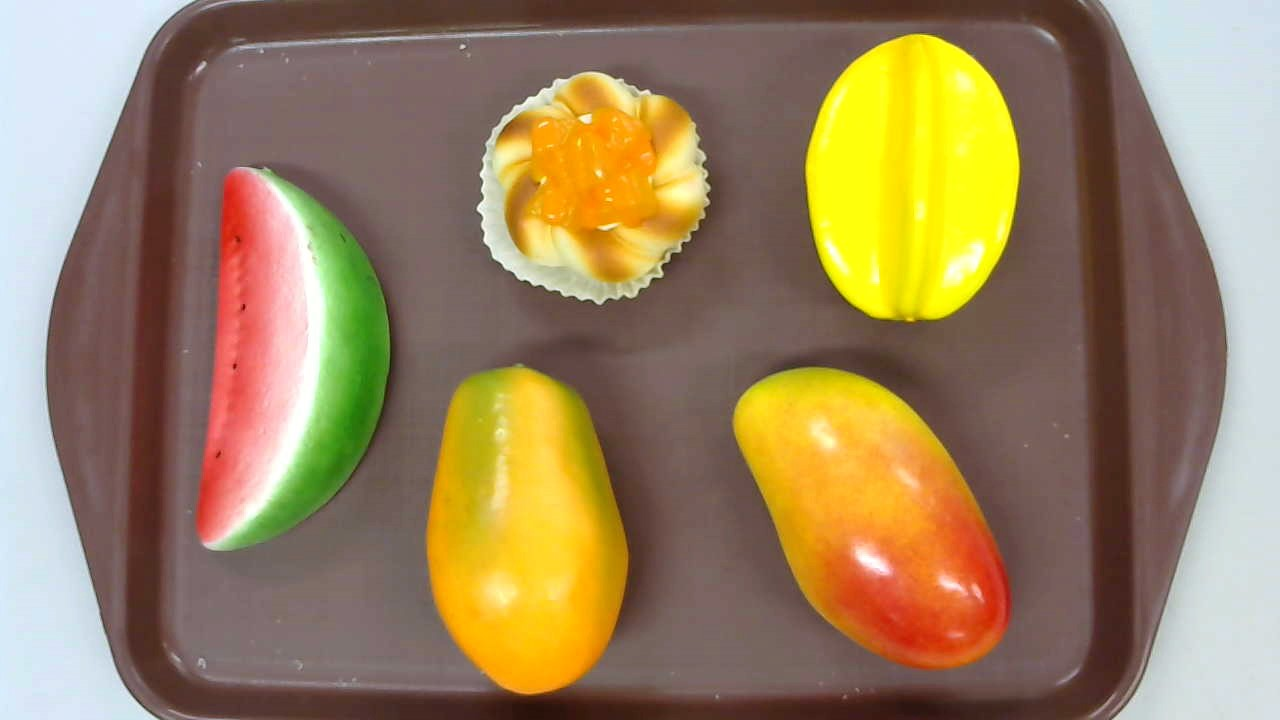mango tart: (474, 72, 713, 307)
papya: (425, 362, 630, 694)
red mango: (732, 366, 1013, 672)
star fruit: (805, 34, 1021, 321)
water melon: (195, 165, 391, 551)
